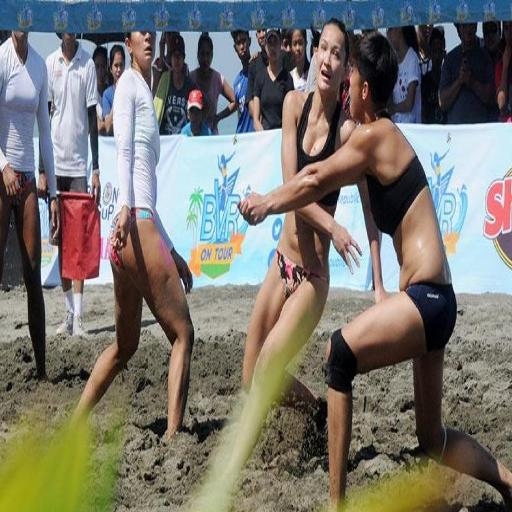person: (240, 34, 511, 509), (75, 32, 193, 436), (228, 190, 359, 475), (0, 31, 59, 378), (47, 34, 100, 204), (440, 23, 495, 124), (190, 32, 235, 134), (252, 29, 293, 131), (154, 32, 193, 134), (388, 27, 421, 122), (421, 28, 446, 124), (231, 30, 253, 133), (103, 44, 125, 134), (246, 29, 268, 117), (152, 31, 180, 96), (181, 89, 212, 137), (93, 47, 109, 134), (497, 22, 511, 121), (483, 21, 502, 92), (291, 29, 309, 92), (416, 24, 433, 76)
